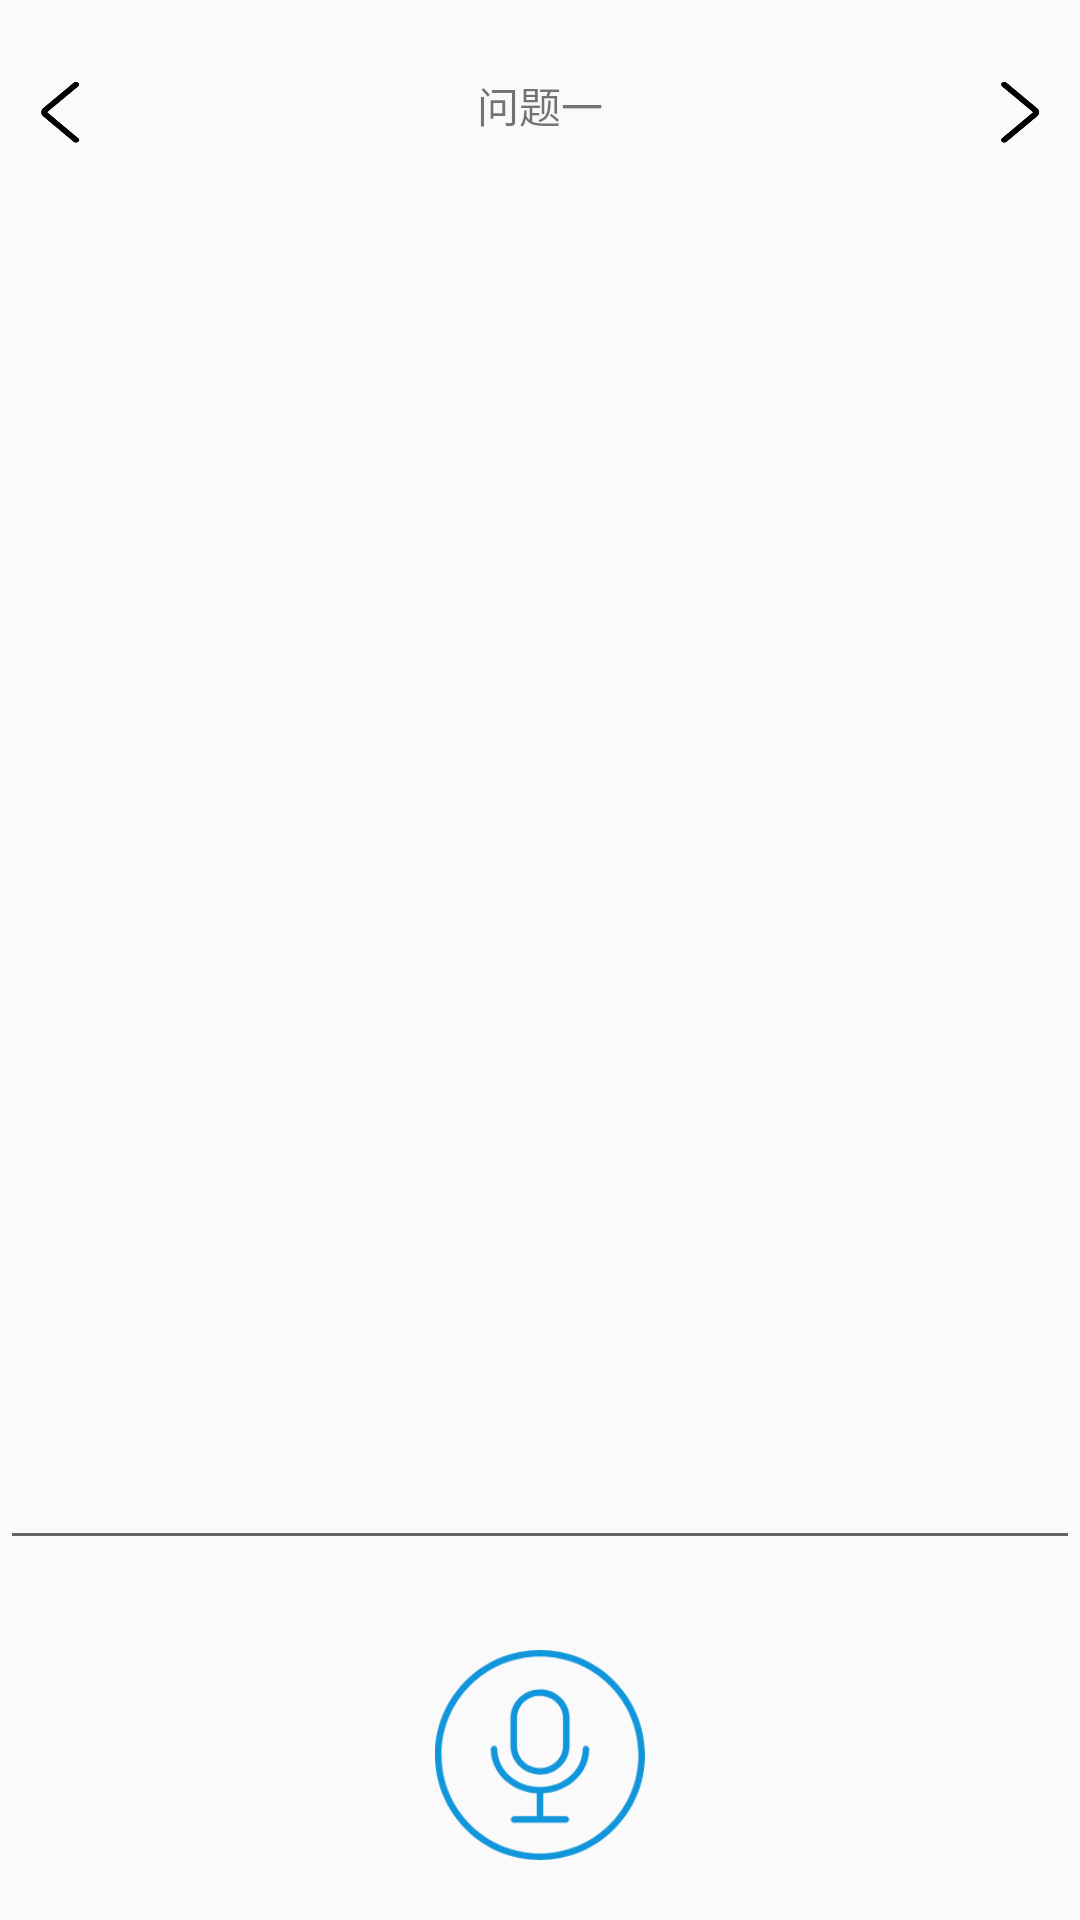

Named icons in this screenshot (1080 x 1920) and their centers, [x,y]:
left: [60,112]
right: [1020,112]
voice: [540,1755]
